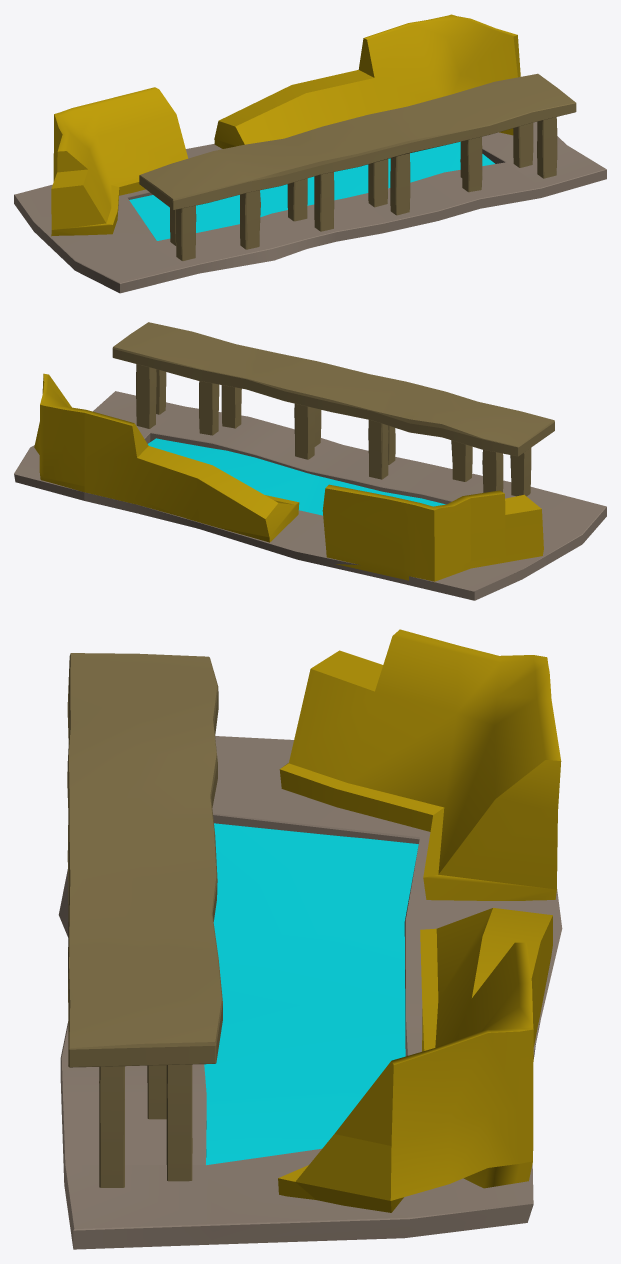
The picture shows the model from 3 angles, top to bottom: view 1: azimuth 30°, elevation 25°; view 2: azimuth 150°, elevation 25°; view 3: azimuth 270°, elevation 25°; orthographic projection. The views are drawn at different scales.
Visible parts, largest first — view 1: polySurface3443; view 2: polySurface3443; view 3: polySurface3443.
Boxes of the visible parts, x1,y1,x2,y2 form: polySurface3443: (14,14,606,293); polySurface3443: (14,322,606,600); polySurface3443: (58,629,562,1249).
Bounding box in the file's own units: 66.55 × 11.97 × 29.17.
